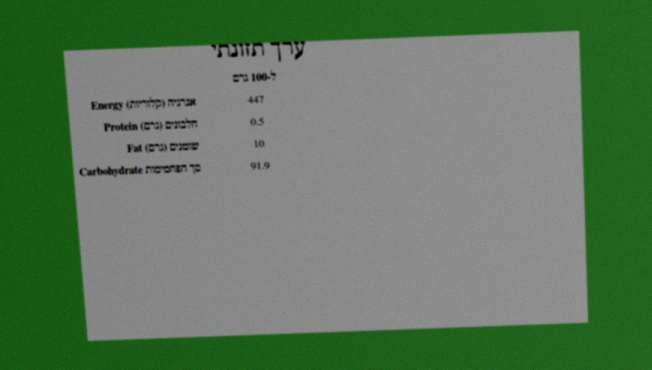carbs: (249, 158, 271, 173)
energy: (246, 92, 266, 107)
fat: (252, 137, 266, 151)
protein: (249, 115, 266, 129)
